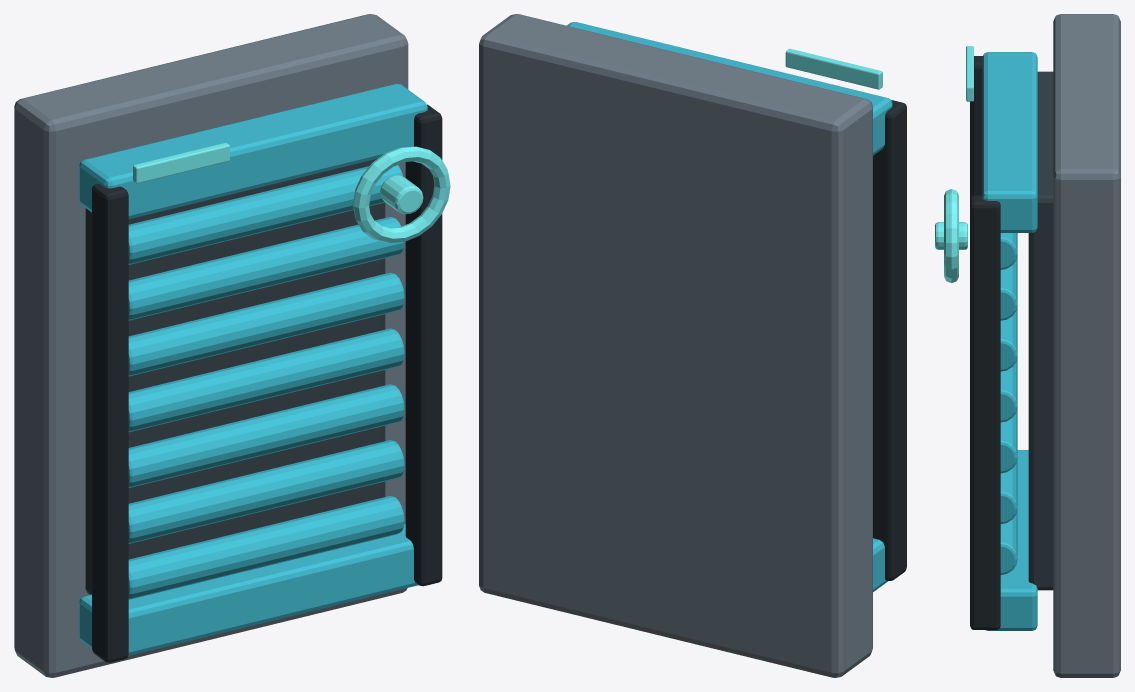
Rendered from LPK_Cooling_HeatExchanger.fbx.
3 views of the same model, side by side, from view 1: azimuth 30°, elevation 25°; view 2: azimuth 150°, elevation 25°; view 3: azimuth 270°, elevation 25° (orthographic). The views are drawn at different scales.
Parts seen in each view (by area): view 1: BackFrame, CoilRecess, HeaderTop, Guard_-0, HeaderBottom, Guard_+0, Coil_0, Coil_4, Coil_1, Coil_3, Coil_2, Coil_5 (+4 smaller); view 2: BackFrame, Guard_-0, HeaderTop, FlowMark; view 3: BackFrame, Guard_+0, CoilRecess, HeaderTop, HeaderBottom, Guard_-0, ValveWheel, Coil_2, Coil_3, Coil_0, Coil_4, Coil_1 (+4 smaller).
Boxes of the visible parts, <box> form: BackFrame: <box>14,14,408,677</box>; CoilRecess: <box>85,158,385,594</box>; HeaderTop: <box>79,83,427,219</box>; Guard_-0: <box>92,184,128,662</box>; HeaderBottom: <box>79,523,418,655</box>; Guard_+0: <box>405,104,442,586</box>; Coil_0: <box>128,496,404,599</box>; Coil_4: <box>128,272,404,376</box>; Coil_1: <box>128,440,404,543</box>; Coil_3: <box>128,328,404,432</box>; Coil_2: <box>128,384,404,487</box>; Coil_5: <box>128,217,404,320</box>; BackFrame: <box>479,14,872,677</box>; Guard_-0: <box>873,100,906,580</box>; HeaderTop: <box>567,22,892,155</box>; FlowMark: <box>785,48,882,89</box>; BackFrame: <box>1053,14,1120,677</box>; Guard_+0: <box>970,195,1000,629</box>; CoilRecess: <box>1028,71,1053,590</box>; HeaderTop: <box>982,52,1037,232</box>; HeaderBottom: <box>985,450,1037,630</box>; Guard_-0: <box>970,56,982,198</box>; ValveWheel: <box>944,189,958,283</box>; Coil_2: <box>1000,407,1017,473</box>; Coil_3: <box>1000,356,1017,422</box>; Coil_0: <box>1000,509,1017,574</box>; Coil_4: <box>1000,306,1017,371</box>; Coil_1: <box>1000,458,1017,523</box>.
Bounding box in the file's own units: 116 × 170 × 56.33.
